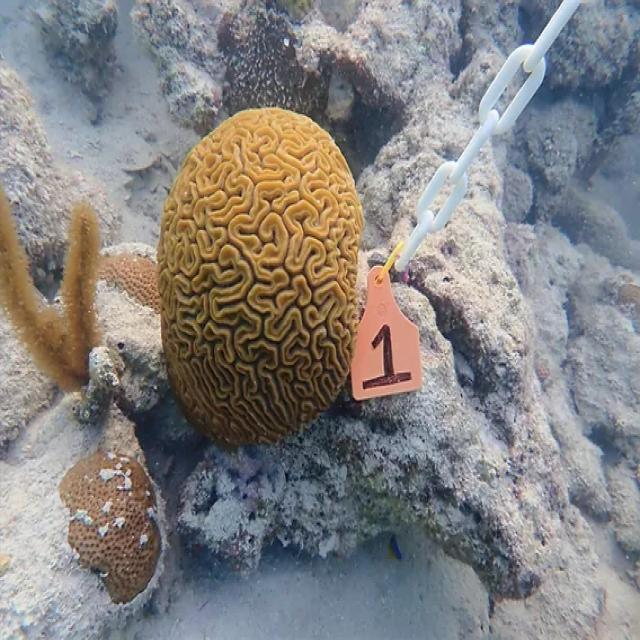Coral: (157, 104, 365, 456), (0, 177, 98, 395), (59, 452, 162, 602), (99, 249, 168, 312)
